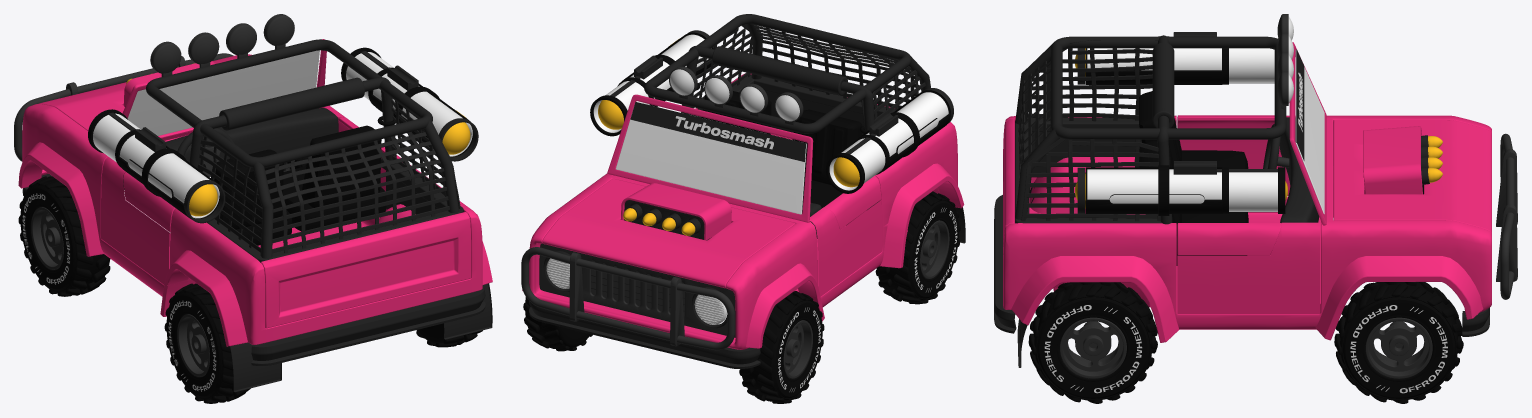
Rendered from Bronco.glb.
3 renders of one model, left to right at view 1: azimuth 30°, elevation 25°; view 2: azimuth 150°, elevation 25°; view 3: azimuth 270°, elevation 25°, orthographic. The views are drawn at different scales.
Parts seen in each view (by area): view 1: BodyFrame, Interior, MetalCabFrame, Windshield, Seats, FrontLeft-Wheels, WeaponGlassCase, WeaponCoverMesh, RearLeft-Wheels, Dash, TopLightFrame, bull bar (+7 smaller); view 2: BodyFrame, Interior, Windshield, MetalCabFrame, bull bar, FrontLeft-Wheels, WeaponGlassCase, RearLeft-Wheels, FrontRadiatorFrame, WeaponCoverMesh, Seats, LogoFrame (+16 smaller); view 3: BodyFrame, Interior, WeaponGlassCase, RearRight-Wheels, FrontRIght-Wheels, MetalCabFrame, WeaponCoverMesh, RearRight-Wheels_White, FrontRIght-Wheels_White, Seats, bull bar, Windshield (+6 smaller).
Part boxes in pixels (left/top/right/bottom): BodyFrame: left=18, top=39, right=492, bottom=346; Interior: left=22, top=77, right=492, bottom=392; MetalCabFrame: left=146, top=39, right=458, bottom=258; Windshield: left=127, top=50, right=319, bottom=135; Seats: left=211, top=125, right=386, bottom=245; FrontLeft-Wheels: left=18, top=176, right=110, bottom=296; WeaponGlassCase: left=93, top=52, right=472, bottom=218; WeaponCoverMesh: left=88, top=47, right=478, bottom=223; RearLeft-Wheels: left=164, top=283, right=250, bottom=403; Dash: left=123, top=108, right=338, bottom=189; TopLightFrame: left=150, top=14, right=294, bottom=73; bull bar: left=14, top=53, right=233, bottom=161; BodyFrame: left=522, top=73, right=964, bottom=349; Interior: left=529, top=24, right=965, bottom=368; Windshield: left=615, top=106, right=806, bottom=214; MetalCabFrame: left=644, top=14, right=930, bottom=207; bull bar: left=521, top=247, right=734, bottom=350; FrontLeft-Wheels: left=739, top=291, right=824, bottom=403; WeaponGlassCase: left=593, top=34, right=948, bottom=190; RearLeft-Wheels: left=875, top=191, right=960, bottom=304; FrontRadiatorFrame: left=539, top=243, right=735, bottom=337; WeaponCoverMesh: left=590, top=30, right=953, bottom=193; Seats: left=701, top=91, right=862, bottom=208; LogoFrame: left=630, top=102, right=806, bottom=161; BodyFrame: left=1003, top=42, right=1491, bottom=342; Interior: left=994, top=39, right=1489, bottom=367; WeaponGlassCase: left=1087, top=48, right=1277, bottom=211; RearRight-Wheels: left=1028, top=282, right=1157, bottom=403; FrontRIght-Wheels: left=1334, top=282, right=1463, bottom=403; MetalCabFrame: left=1015, top=35, right=1286, bottom=224; WeaponCoverMesh: left=1077, top=32, right=1285, bottom=215; RearRight-Wheels_White: left=1060, top=317, right=1126, bottom=378; FrontRIght-Wheels_White: left=1365, top=317, right=1432, bottom=378; Seats: left=1139, top=91, right=1248, bottom=265; bull bar: left=1496, top=133, right=1517, bottom=299; Windshield: left=1295, top=49, right=1324, bottom=214.
Size of the model in its own units: 4.74 by 4.24 by 6.97.
Materials: 17 (1 with a texture image).
